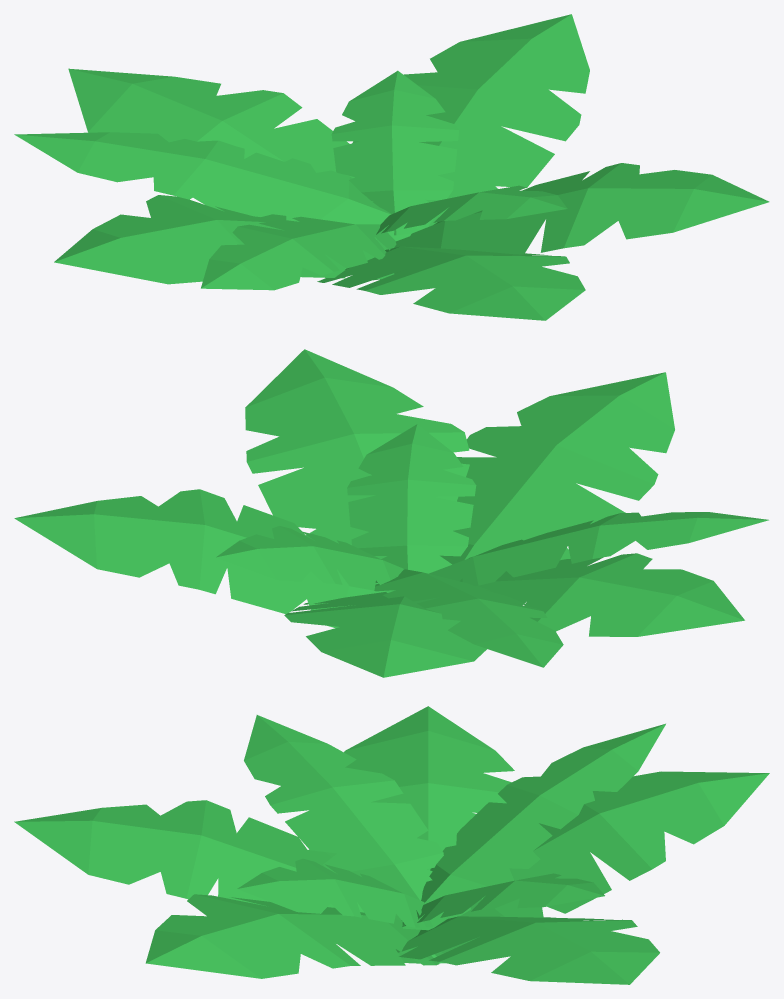
File: bush.gltf
3 views of the same model, one above another, from view 1: azimuth 30°, elevation 25°; view 2: azimuth 150°, elevation 25°; view 3: azimuth 270°, elevation 25° (orthographic).
Parts seen in each view (by area): view 1: Bush.002; view 2: Bush.002; view 3: Bush.002.
Boxes of the visible parts, box(x1,y1,x2,y2) form: Bush.002: box(14, 14, 769, 320); Bush.002: box(14, 349, 768, 677); Bush.002: box(14, 706, 769, 984).
Bounding box in the file's own units: 1.88 × 0.314 × 1.99.
Materials: 1 (1 with a texture image).
